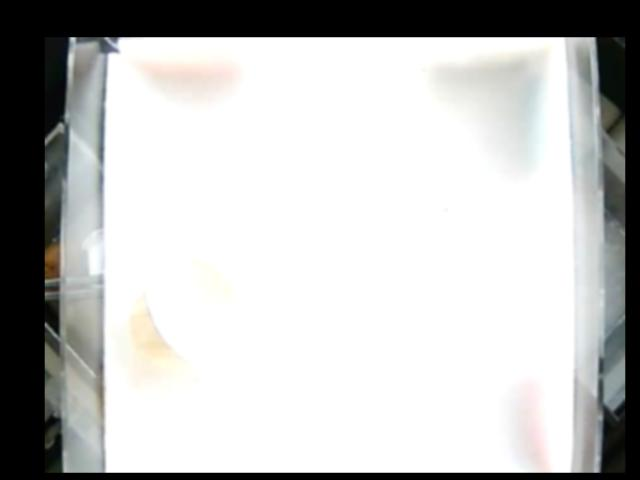Cup: (128, 242, 253, 374)
